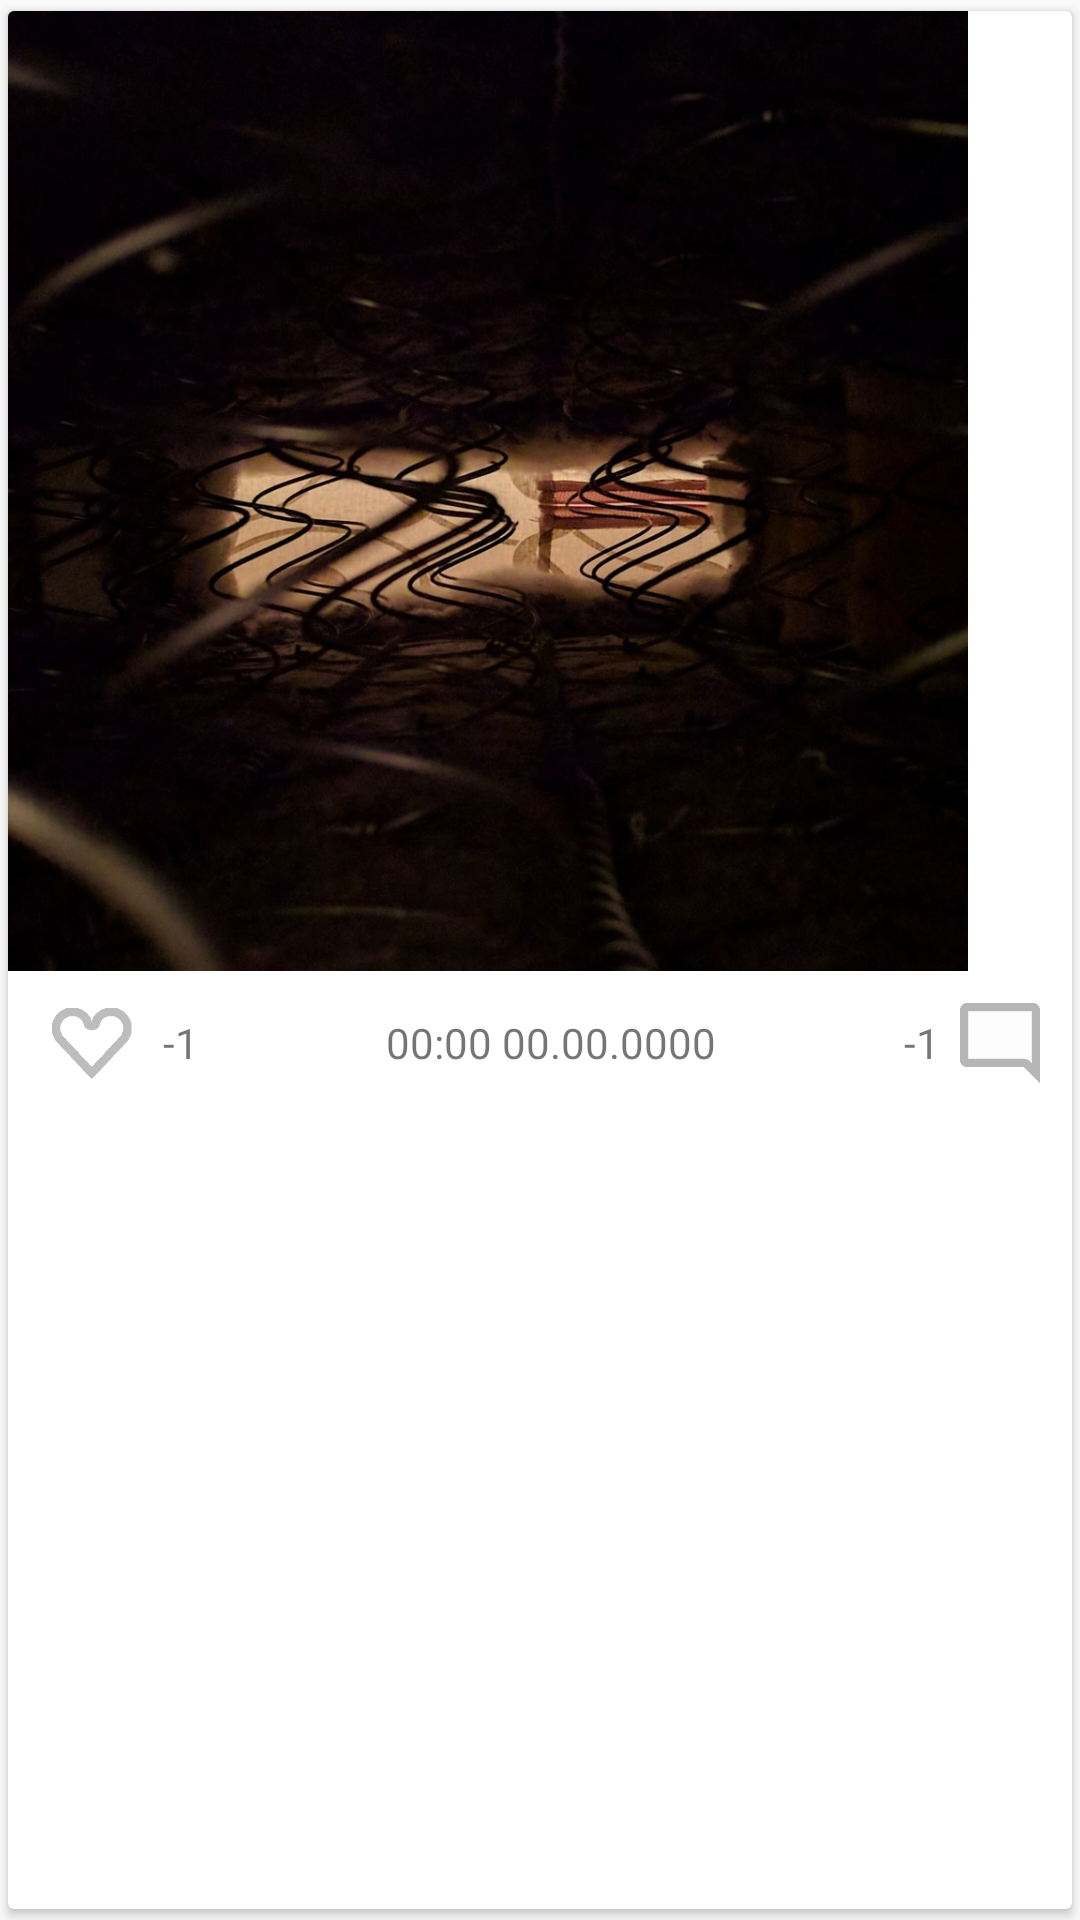

Where to tap for icons on this 1080 × 1920 app screen, as point (x, y):
comment: point (1000, 1043)
like: point (92, 1043)
